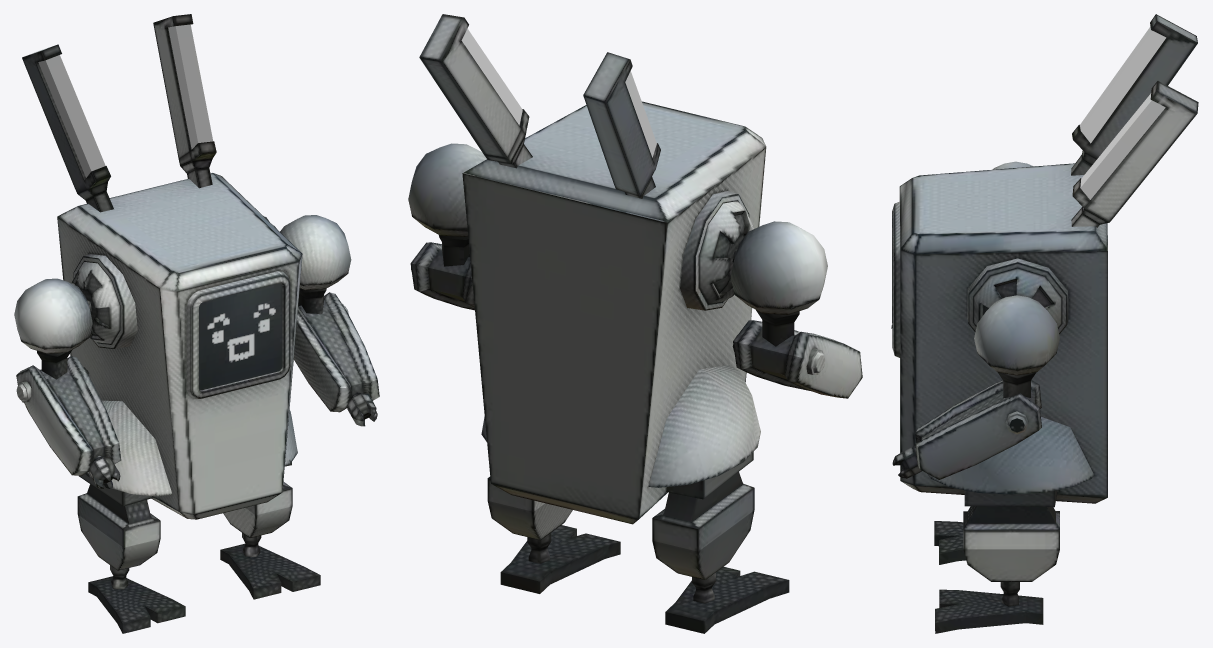
The model's file is Robot-transformed-transformed.glb.
3 views of the same model, side by side, from view 1: azimuth 30°, elevation 25°; view 2: azimuth 150°, elevation 25°; view 3: azimuth 270°, elevation 25° (orthographic). The views are drawn at different scales.
Parts seen in each view (by area): view 1: Robot; view 2: Robot; view 3: Robot.
Part boxes in pixels (left/top/right/bottom): Robot: left=14, top=14, right=379, bottom=633; Robot: left=408, top=14, right=862, bottom=633; Robot: left=891, top=14, right=1198, bottom=633.
Size of the model in its own units: 1.47 by 2.14 by 1.12.
Materials: 1 (1 with a texture image).
